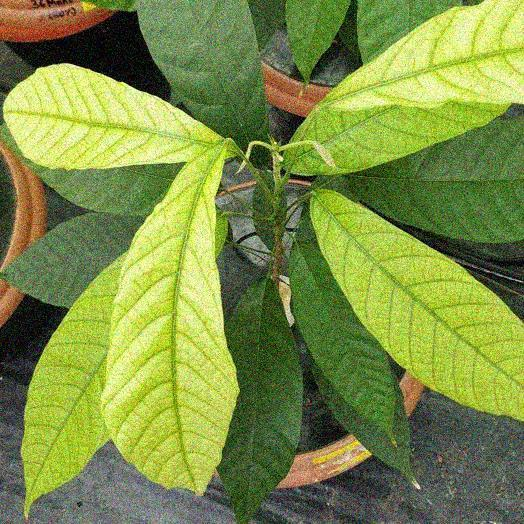Healthy Leaf: (289, 211, 411, 474), (341, 116, 523, 242), (218, 277, 302, 523), (137, 0, 268, 148), (0, 213, 142, 307), (26, 159, 180, 216), (357, 0, 461, 62), (286, 0, 350, 83), (0, 0, 112, 40)
Iron: (311, 189, 523, 420), (102, 148, 238, 492), (287, 0, 523, 174), (21, 255, 123, 516), (4, 64, 224, 168)
